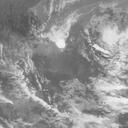cyclone: (97, 21, 123, 50), (43, 26, 69, 51)
